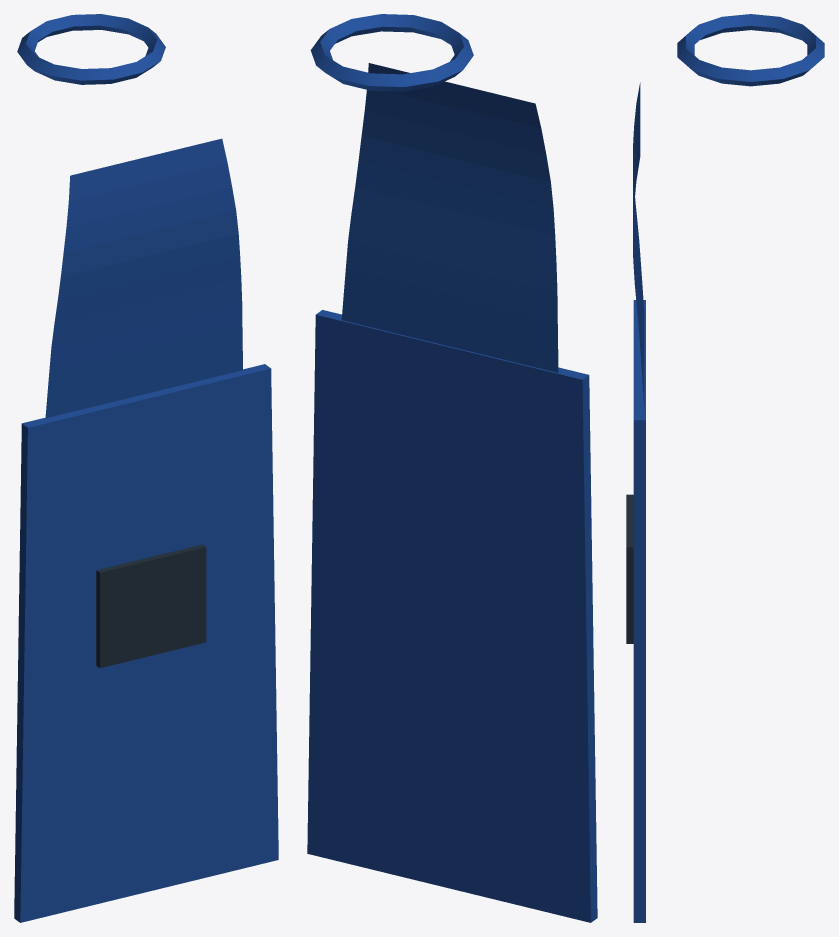
The model's file is npc_apron_front.glb.
3 views of the same model, side by side, from view 1: azimuth 30°, elevation 25°; view 2: azimuth 150°, elevation 25°; view 3: azimuth 270°, elevation 25° (orthographic). The views are drawn at different scales.
Visible parts, largest first — view 1: npc_apron_front; view 2: npc_apron_front; view 3: npc_apron_front.
Boxes of the visible parts, <box> form: npc_apron_front: <box>14,14,278,922</box>; npc_apron_front: <box>307,14,597,922</box>; npc_apron_front: <box>626,14,824,922</box>.
Size of the model in its own units: 0.34 by 1.02 by 0.223.
